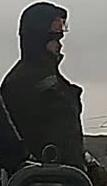helmet: (45, 13, 71, 35)
vest: (0, 60, 87, 174)
